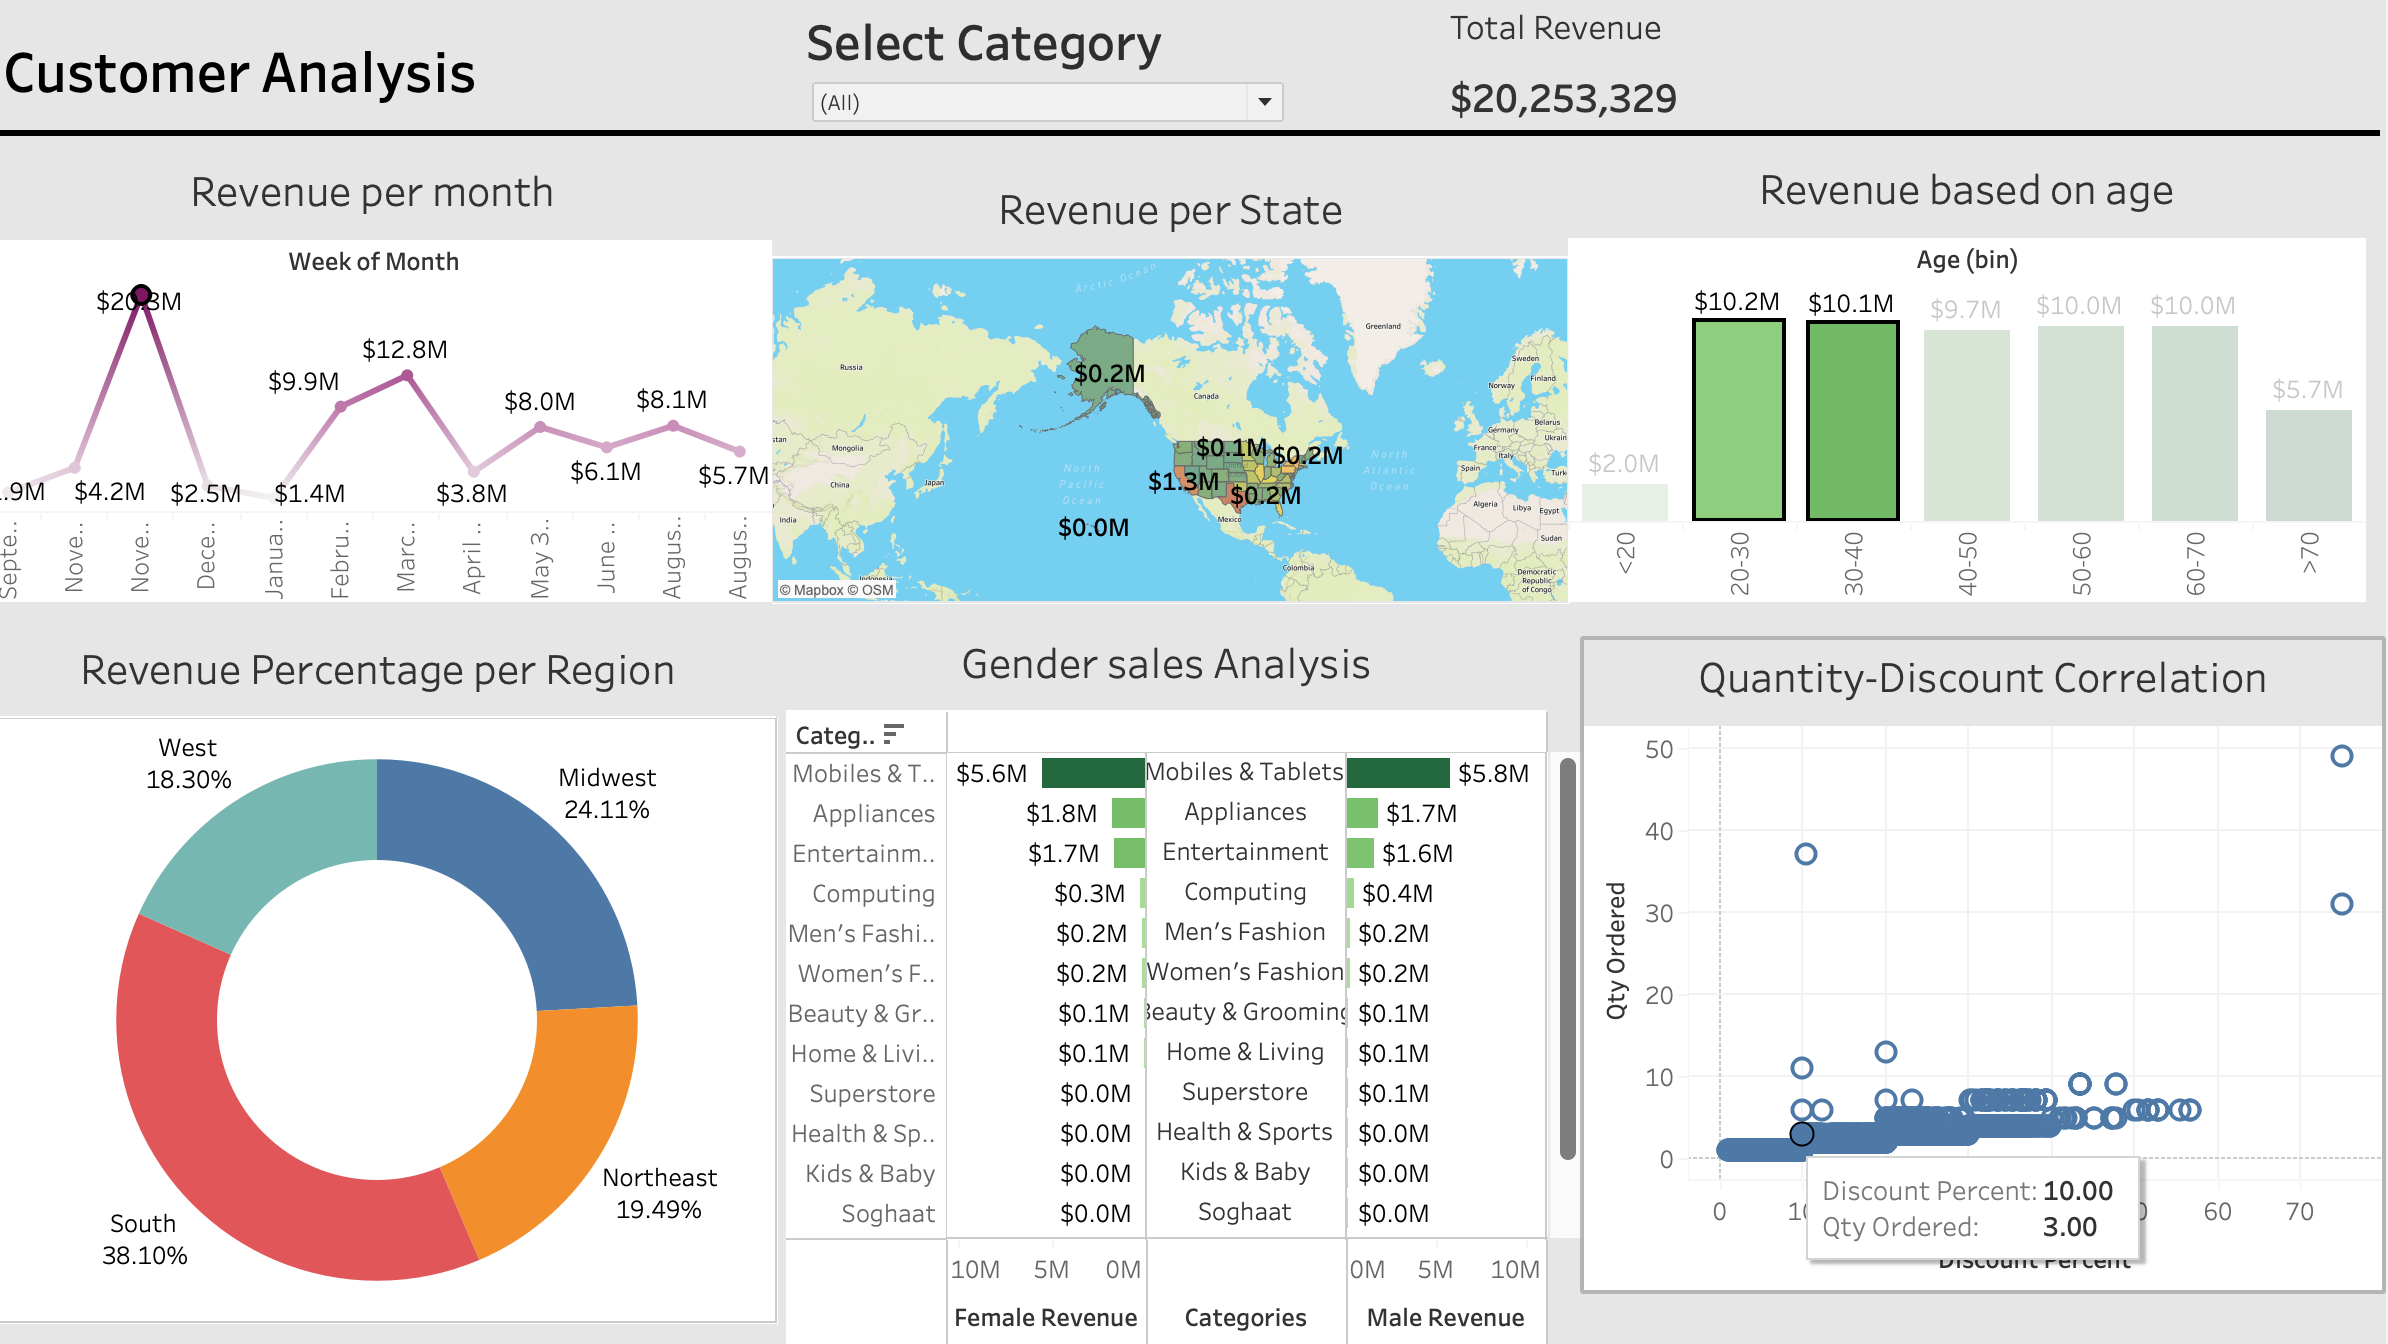

This screenshot's page, from the dashboard's own definition file:
{"tool":"tableau","page":{"name":"Dashboard 1","canvas":[1200,800],"ordinal":0},"visuals":[{"type":"filter","title":"Gender sales Analysis","param":"[federated.12jvkii07b2lvj11dvw160uhcy1e].[none:category:nk]","box":[410,5,242,62]},{"type":"text","box":[6,8,316,56]},{"type":"blank","box":[0,66,1197,3]},{"type":"worksheet","title":"Revenue based on age","mark":"Automatic","rows":["total"],"cols":["Age (bin)"],"box":[791,77,399,225]},{"type":"worksheet","title":"Revenue per State","mark":"Automatic","box":[393,87,399,216]},{"type":"worksheet","title":"Gender sales Analysis","mark":"Automatic","rows":["category"],"cols":["Calculation_3129790646834565121","Calculation_3129790646833123328","Calculation_3129790646835027970"],"box":[400,314,399,362]},{"type":"worksheet","title":"Quantity-Discount Correlation","mark":"Automatic","rows":["qty_ordered"],"cols":["Discount_Percent"],"box":[799,321,399,325]}]}

Visuals, with their boxes on the page's 1200x800 design canvas (x1, y1, x2, y2). These are canvas units, not pixel positions in the 2388x1344 screenshot, which may show the page scaled, cropped or inside an application window:
"Gender sales Analysis" filter: left=410, top=5, right=652, bottom=67
text: left=6, top=8, right=322, bottom=64
blank: left=0, top=66, right=1197, bottom=69
"Revenue based on age" worksheet: left=791, top=77, right=1190, bottom=302
"Revenue per State" worksheet: left=393, top=87, right=792, bottom=303
"Gender sales Analysis" worksheet: left=400, top=314, right=799, bottom=676
"Quantity-Discount Correlation" worksheet: left=799, top=321, right=1198, bottom=646
